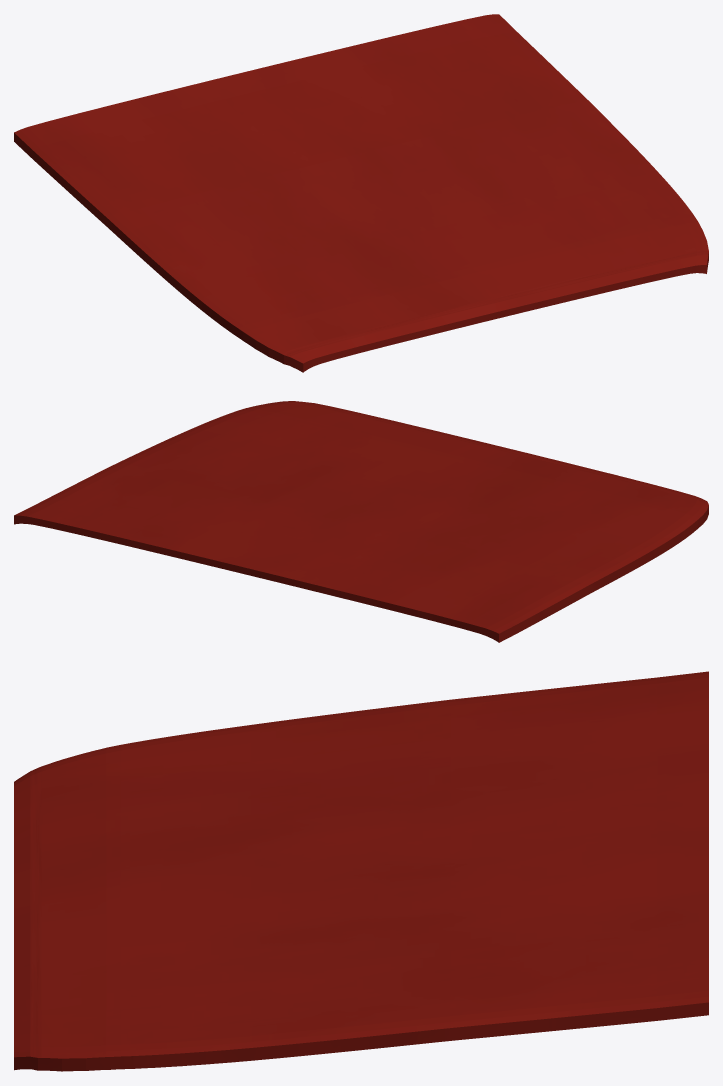
File: capo.glb
The picture shows the model from 3 angles, top to bottom: view 1: azimuth 30°, elevation 25°; view 2: azimuth 150°, elevation 25°; view 3: azimuth 270°, elevation 25°; orthographic projection. The views are drawn at different scales.
Parts seen in each view (by area): view 1: capo_pintura; view 2: capo_pintura; view 3: capo_pintura.
Part boxes in pixels (bbox=[...]): capo_pintura: bbox=[14, 14, 708, 372]; capo_pintura: bbox=[14, 401, 708, 642]; capo_pintura: bbox=[14, 671, 708, 1071].
Size of the model in its own units: 1.5 by 0.2148 by 1.34.
Materials: 1 (1 with a texture image).
